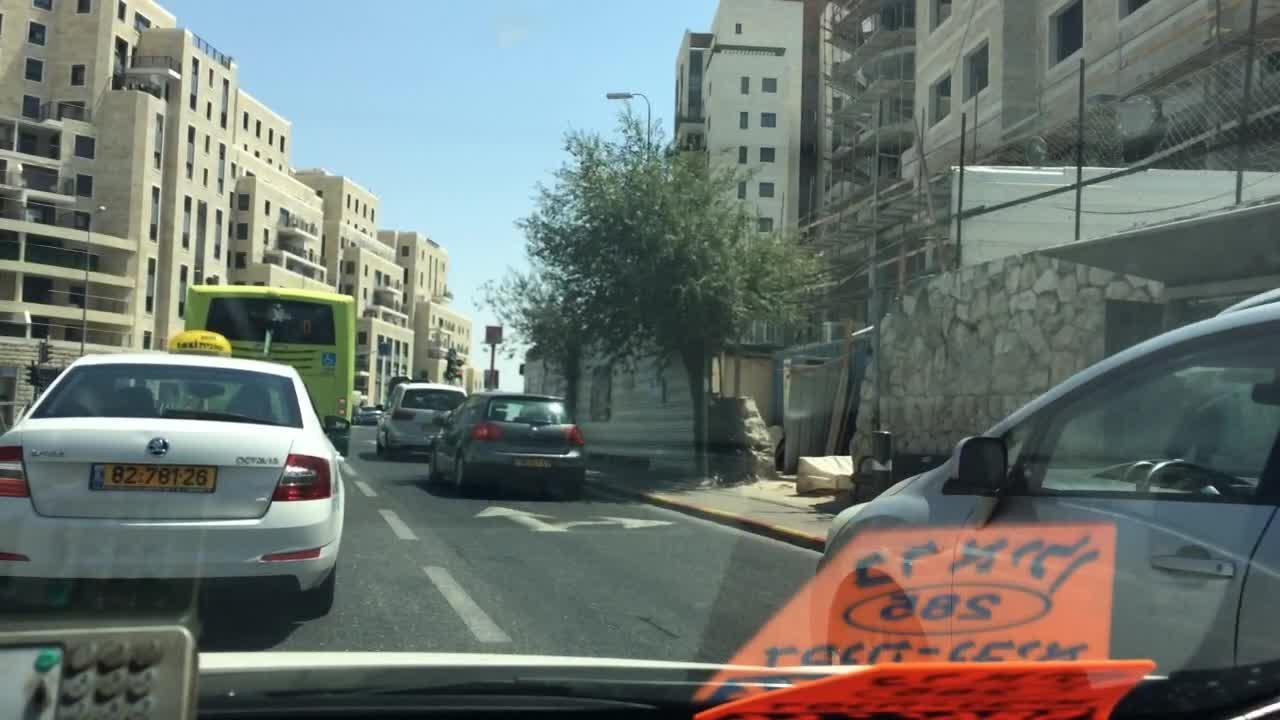skoda: (136, 430, 186, 467)
